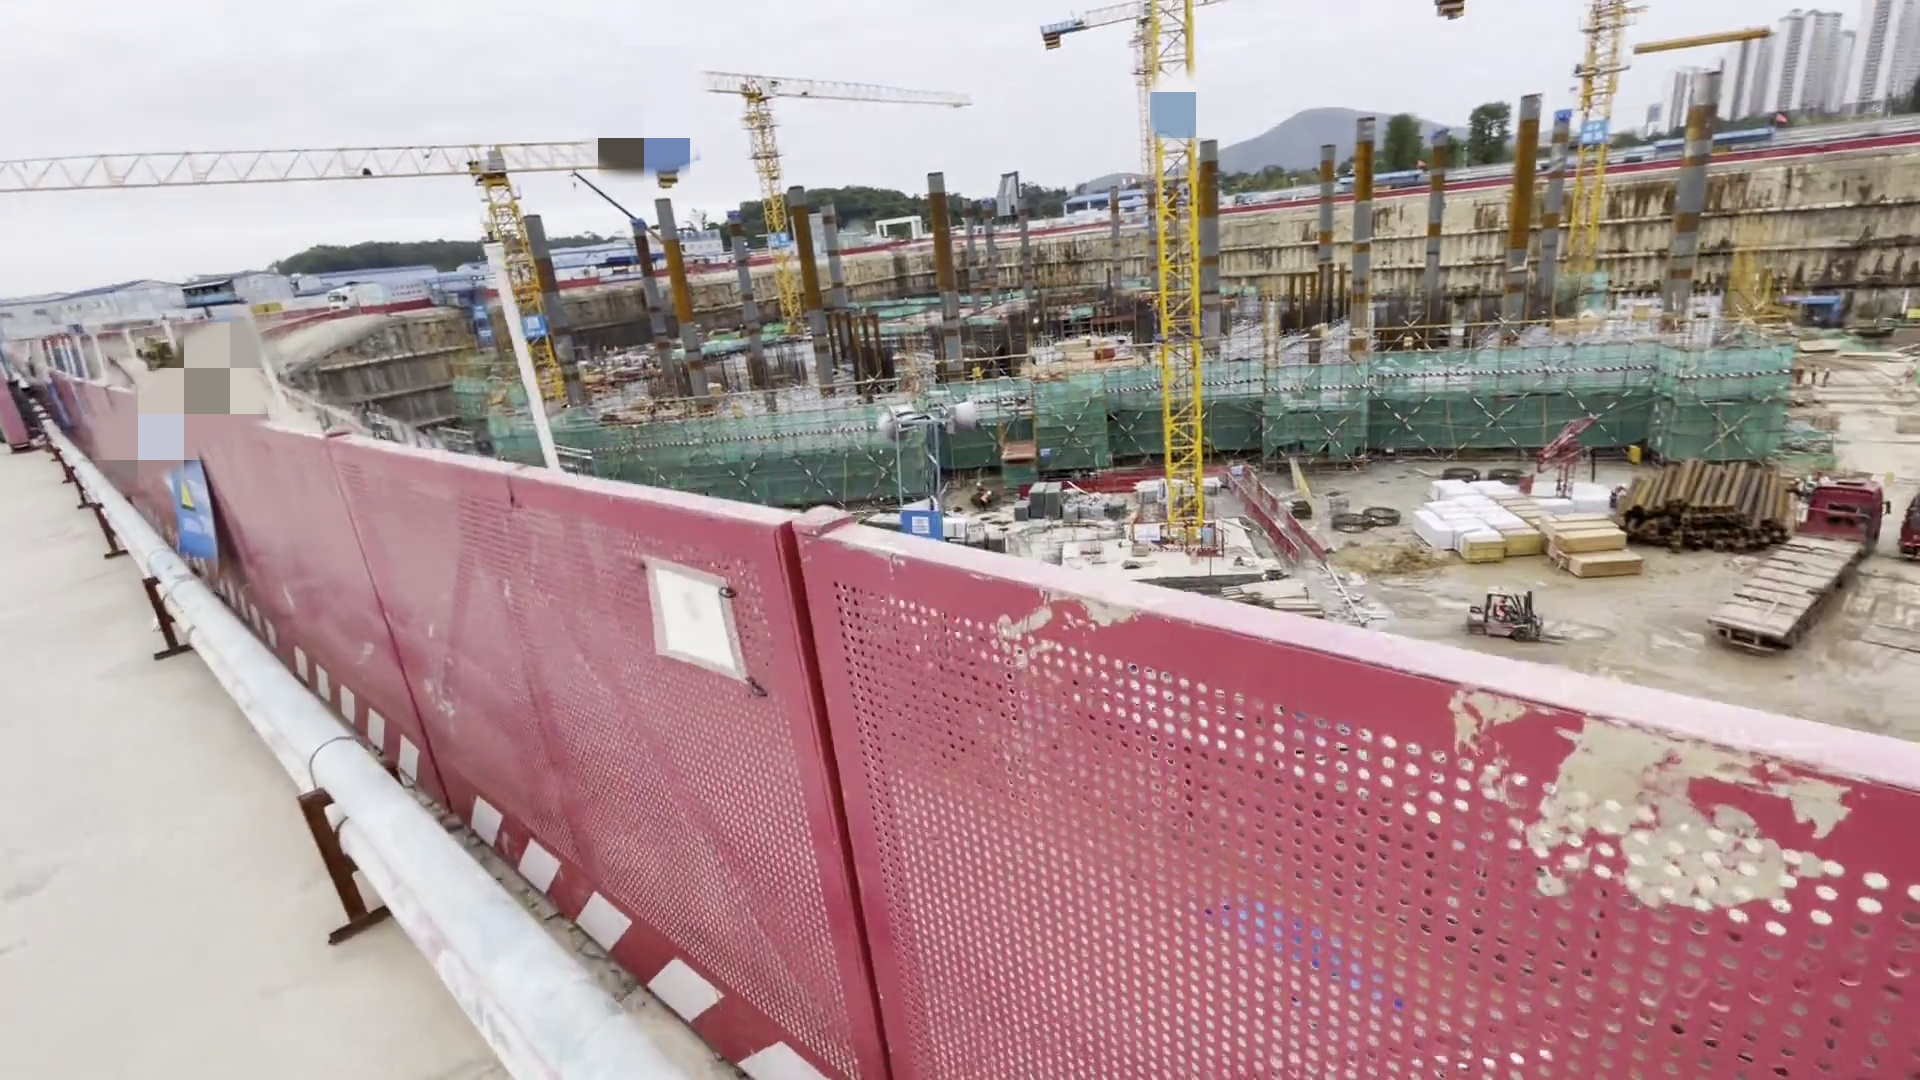board: (1511, 495, 1656, 596)
fence: (1, 347, 1793, 1058)
slogan: (160, 436, 232, 574), (465, 291, 495, 361), (898, 506, 949, 539), (524, 313, 553, 345)
